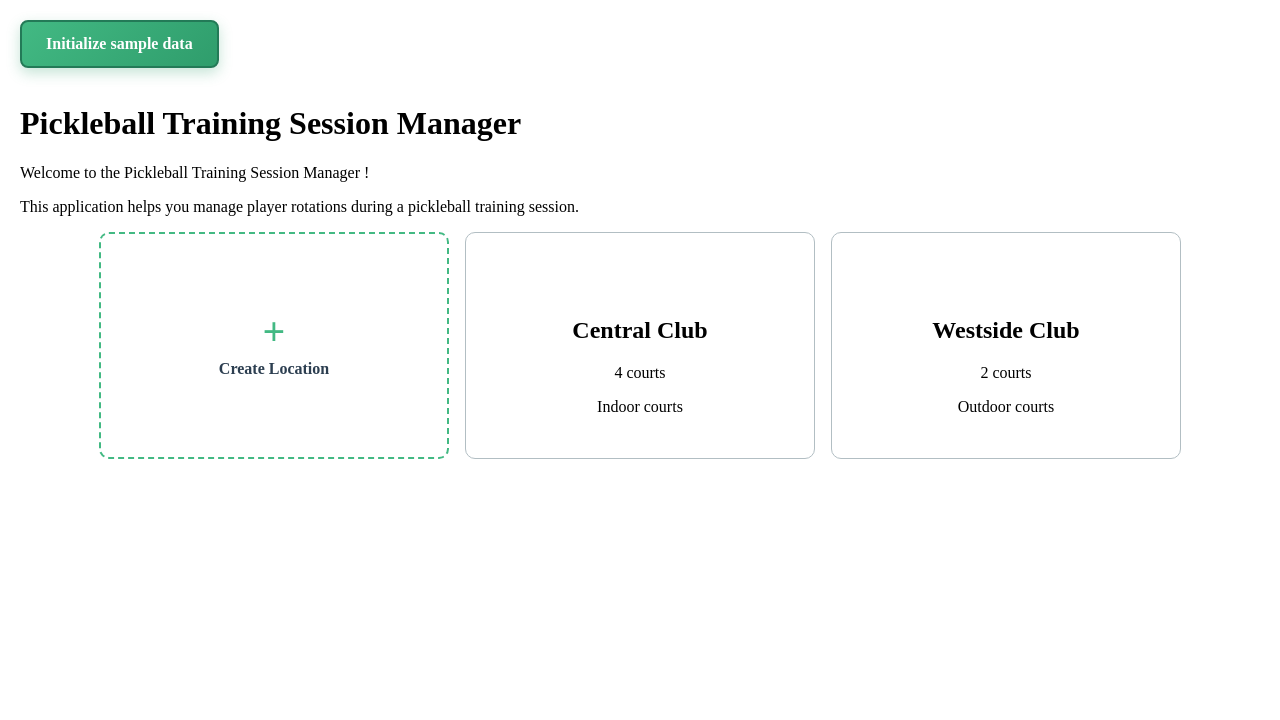
Test: HomeView › opens the edition modal for the requested location with a prefilled draft
Click the button with class "location-card-select" showing "Westside Club" at (1006, 330), box x1=932 y1=317 x2=1080 y2=344
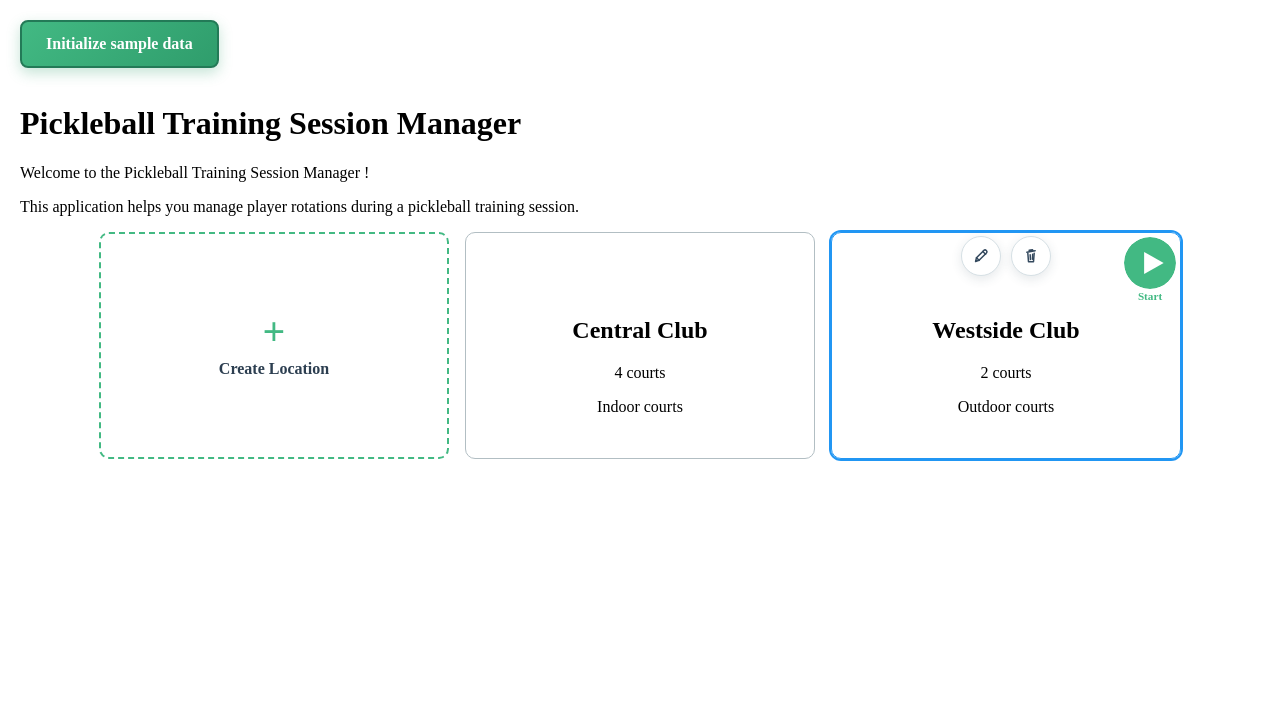
Click the button with class "location-card-edit" at (981, 256), box x1=961 y1=236 x2=1001 y2=276
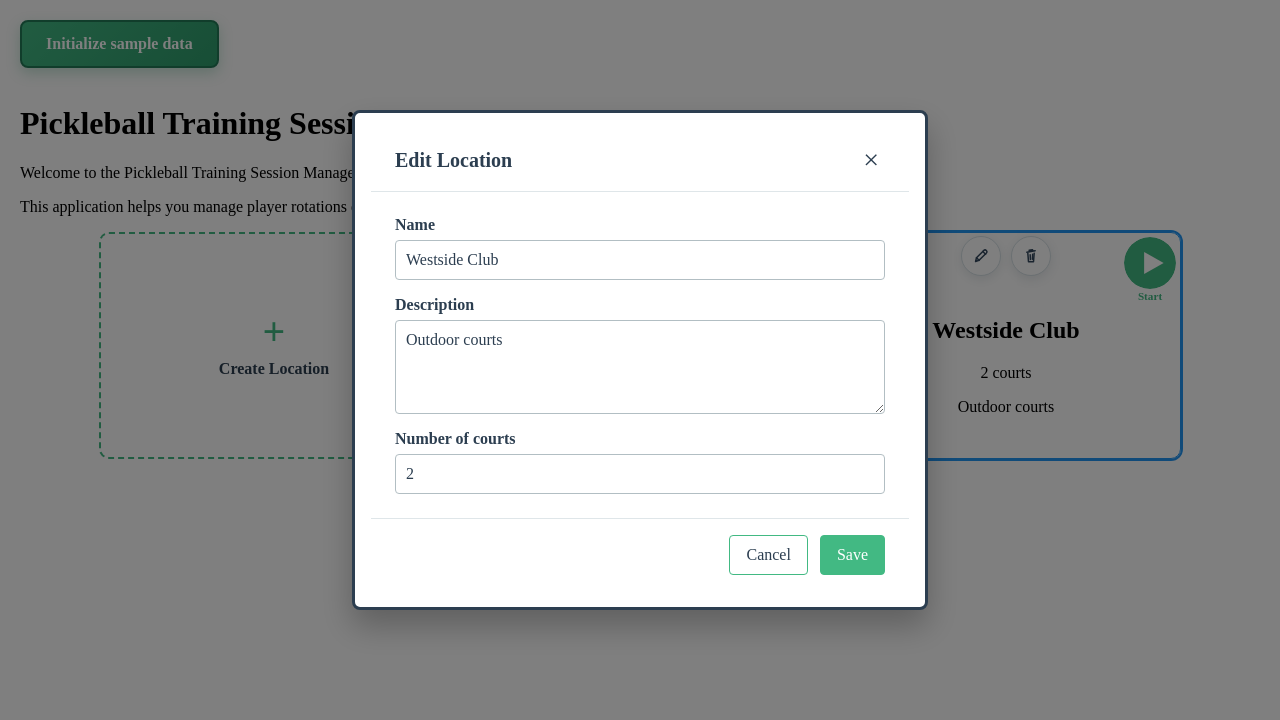
Expected: the field with id "location-form-name" holds "Westside Club", x1=395 y1=240 x2=885 y2=280
Expected: the text box with id "location-form-description" holds "Outdoor courts", x1=395 y1=320 x2=885 y2=414
Expected: the number field with id "location-form-nb-courts" holds "2", x1=395 y1=454 x2=885 y2=494
